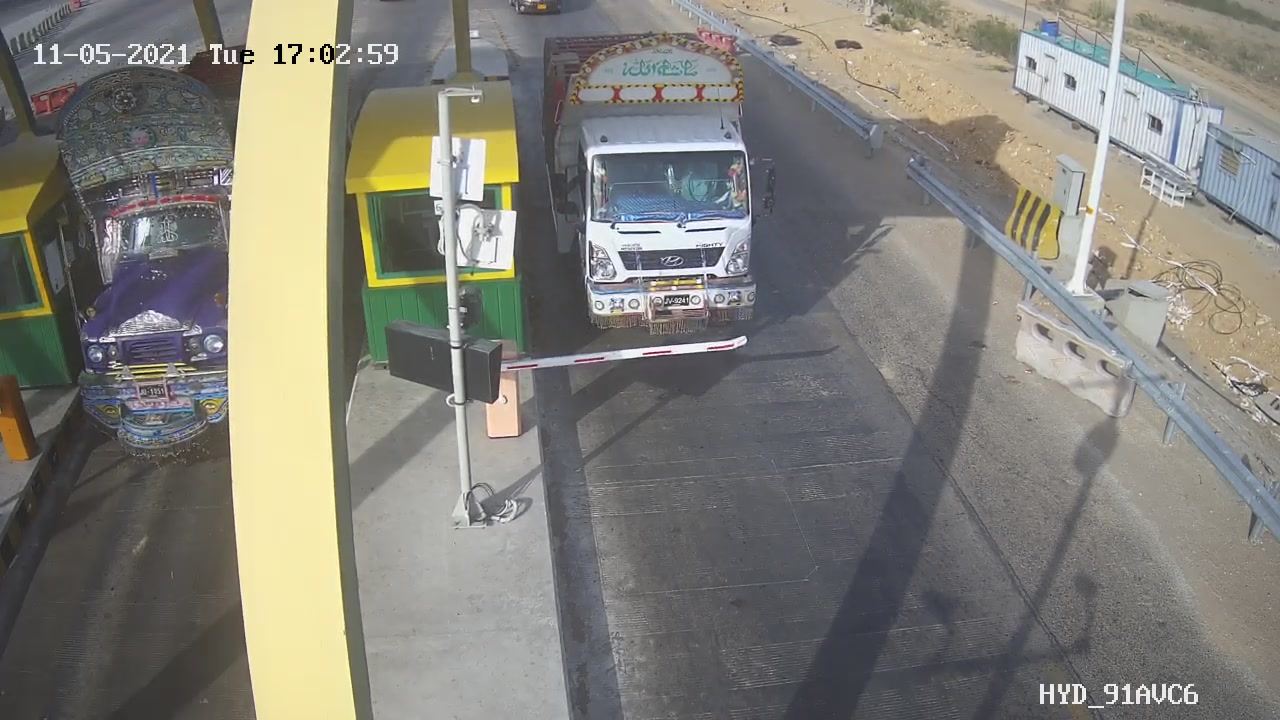F5: (522, 20, 807, 369)
